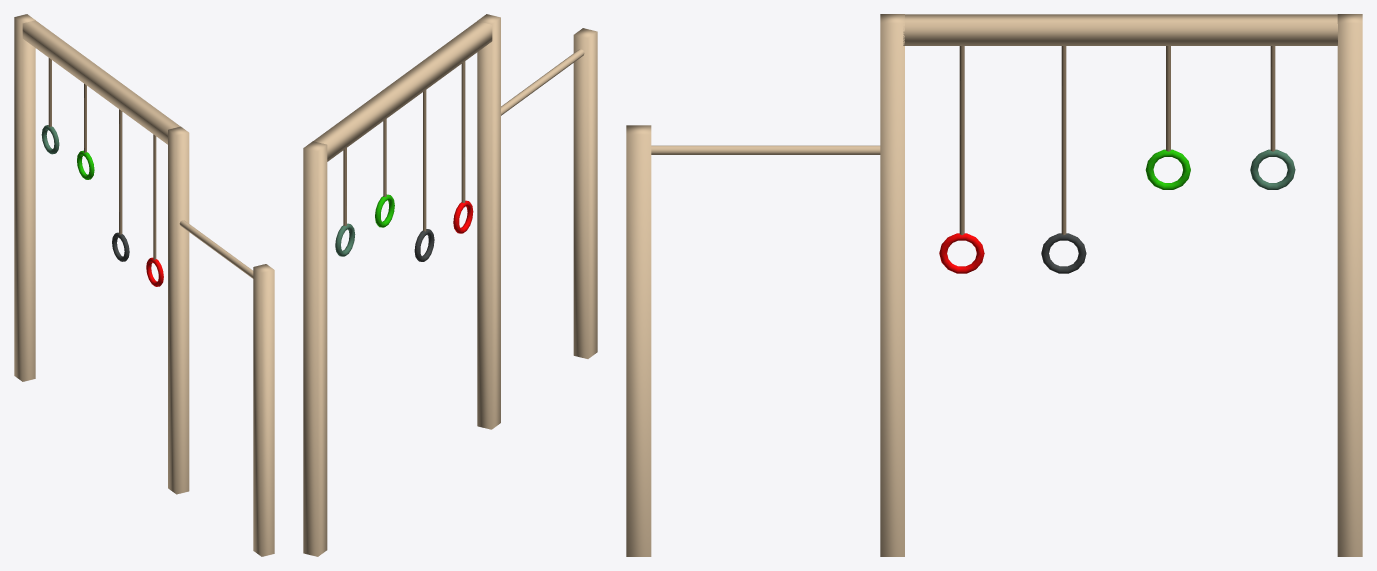
Rendered from SM_Rings_Crossbar_01.fbx.
3 renders of one model, left to right at view 1: azimuth 30°, elevation 25°; view 2: azimuth 150°, elevation 25°; view 3: azimuth 270°, elevation 25°, orthographic. The views are drawn at different scales.
Parts seen in each view (by area): view 1: SM_Rings_Crossbar_01; view 2: SM_Rings_Crossbar_01; view 3: SM_Rings_Crossbar_01.
Boxes of the visible parts, bbox=[...] form: SM_Rings_Crossbar_01: bbox=[14, 14, 274, 556]; SM_Rings_Crossbar_01: bbox=[303, 14, 597, 556]; SM_Rings_Crossbar_01: bbox=[626, 14, 1362, 556].
Size of the model in its own units: 9.46 by 253 by 316.
Materials: 1 (1 with a texture image).
